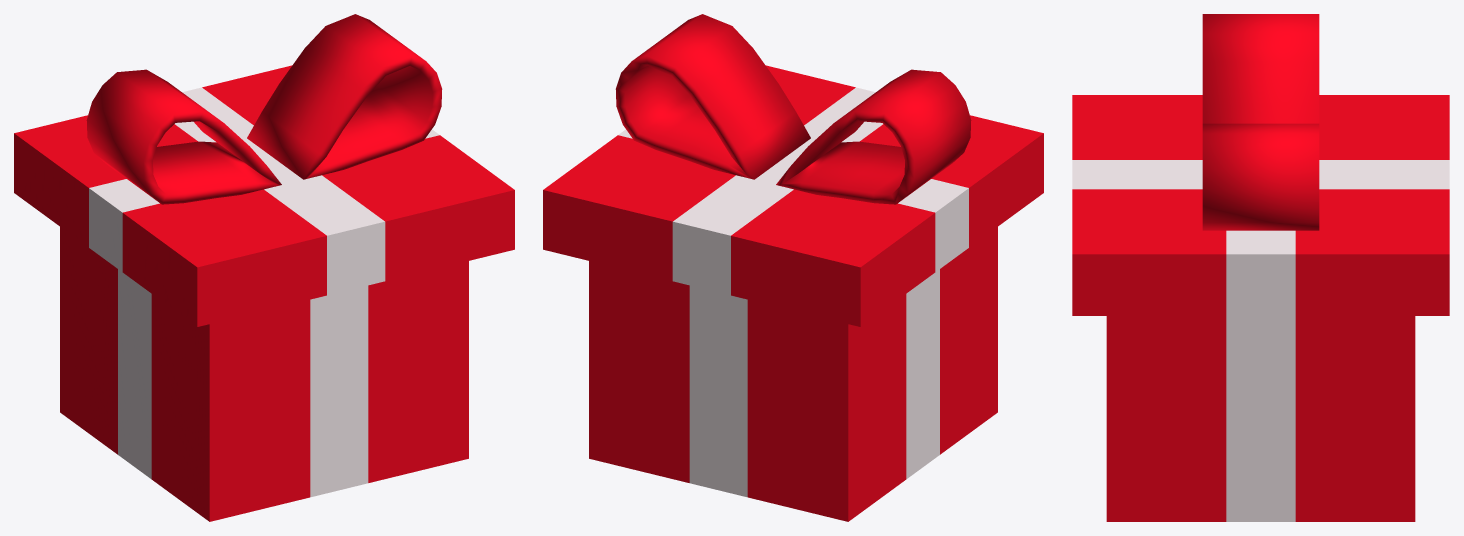
Rendered from REGALO 3.fbx.
3 views of the same model, side by side, from view 1: azimuth 30°, elevation 25°; view 2: azimuth 150°, elevation 25°; view 3: azimuth 270°, elevation 25° (orthographic). The views are drawn at different scales.
Parts seen in each view (by area): view 1: Regalo; view 2: Regalo; view 3: Regalo.
Part boxes in pixels (bbox=[...]): Regalo: bbox=[14, 14, 514, 521]; Regalo: bbox=[543, 14, 1043, 521]; Regalo: bbox=[1072, 14, 1449, 521].
Size of the model in its own units: 341 by 381 by 341.
